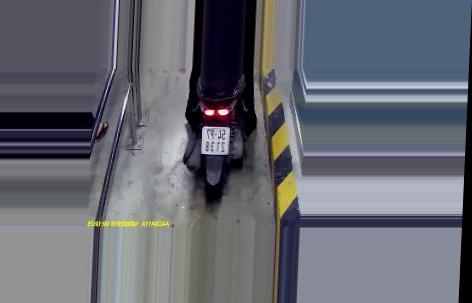License_Plate: (197, 125, 233, 156)
